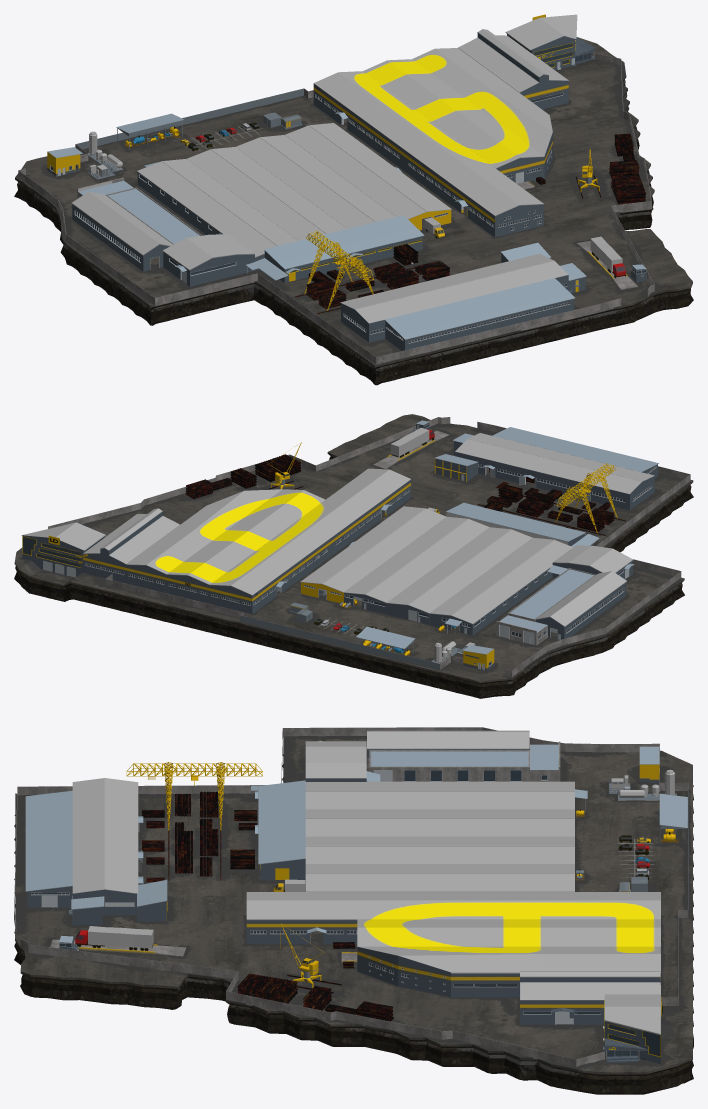
The model's file is factory.glb.
The picture shows the model from 3 angles, top to bottom: view 1: azimuth 30°, elevation 25°; view 2: azimuth 150°, elevation 25°; view 3: azimuth 270°, elevation 25°; orthographic projection. The views are drawn at different scales.
Parts seen in each view (by area): view 1: Ground, MainHangarRoof_NEW_001, Fence, MainHangarRoof_NEW_002, Hangar_007, HangarRoof_001, HangarRoof_005, HangarRoof_004, Hangar_006, HangarRoof_002, HangarRoof_003, MainHangarRoof_NEW_002.001 (+20 smaller); view 2: Ground, Fence, MainHangarRoof_NEW_001, MainHangarRoof_NEW_002, HangarRoof_001, HangarRoof_004, HangarRoof_002, HangarRoof_003, HangarRoof_005, MainHangarRoof_NEW_002.001, MainHangar_NEW_001, Hangar_005 (+25 smaller); view 3: Ground, MainHangarRoof_NEW_001, Fence, MainHangarRoof_NEW_002, HangarRoof_004, HangarRoof_005, HangarRoof_001, HangarRoof_003, HangarRoof_002, MainHangarRoof_NEW_002.001, Hangar_007, Building_006 (+21 smaller).
Part boxes in pixels (left/top/right/bottom): Ground: left=14, top=37, right=693, bottom=385; MainHangarRoof_NEW_001: left=313, top=71, right=543, bottom=216; Fence: left=18, top=53, right=654, bottom=364; MainHangarRoof_NEW_002: left=363, top=59, right=544, bottom=168; Hangar_007: left=384, top=278, right=574, bottom=350; HangarRoof_001: left=285, top=123, right=451, bottom=219; HangarRoof_005: left=340, top=253, right=568, bottom=323; HangarRoof_004: left=137, top=159, right=297, bottom=257; Hangar_006: left=246, top=215, right=424, bottom=285; HangarRoof_002: left=236, top=135, right=395, bottom=228; HangarRoof_003: left=187, top=147, right=346, bottom=240; MainHangarRoof_NEW_002.001: left=412, top=48, right=552, bottom=156; Ground: left=14, top=414, right=693, bottom=698; Fence: left=48, top=417, right=690, bottom=676; MainHangarRoof_NEW_001: left=209, top=468, right=410, bottom=595; MainHangarRoof_NEW_002: left=166, top=489, right=325, bottom=585; HangarRoof_001: left=300, top=506, right=446, bottom=592; HangarRoof_004: left=430, top=537, right=572, bottom=624; HangarRoof_002: left=344, top=517, right=489, bottom=602; HangarRoof_003: left=387, top=527, right=532, bottom=613; HangarRoof_005: left=455, top=433, right=654, bottom=494; MainHangarRoof_NEW_002.001: left=126, top=489, right=282, bottom=574; MainHangar_NEW_001: left=209, top=480, right=410, bottom=613; Hangar_005: left=455, top=452, right=654, bottom=510; Ground: left=14, top=735, right=693, bottom=1094; MainHangarRoof_NEW_001: left=246, top=892, right=660, bottom=920; Fence: left=14, top=727, right=688, bottom=1066; MainHangarRoof_NEW_002: left=357, top=919, right=660, bottom=946; HangarRoof_004: left=305, top=781, right=574, bottom=809; HangarRoof_005: left=72, top=778, right=138, bottom=893; HangarRoof_001: left=305, top=864, right=574, bottom=891; HangarRoof_003: left=305, top=809, right=574, bottom=836; HangarRoof_002: left=305, top=836, right=574, bottom=863; MainHangarRoof_NEW_002.001: left=357, top=946, right=660, bottom=973; Hangar_007: left=25, top=790, right=72, bottom=907; Building_006: left=369, top=750, right=529, bottom=781.
Bounding box in the file's own units: 75.71 × 9.16 × 64.36.
5 materials, 5 textured.
